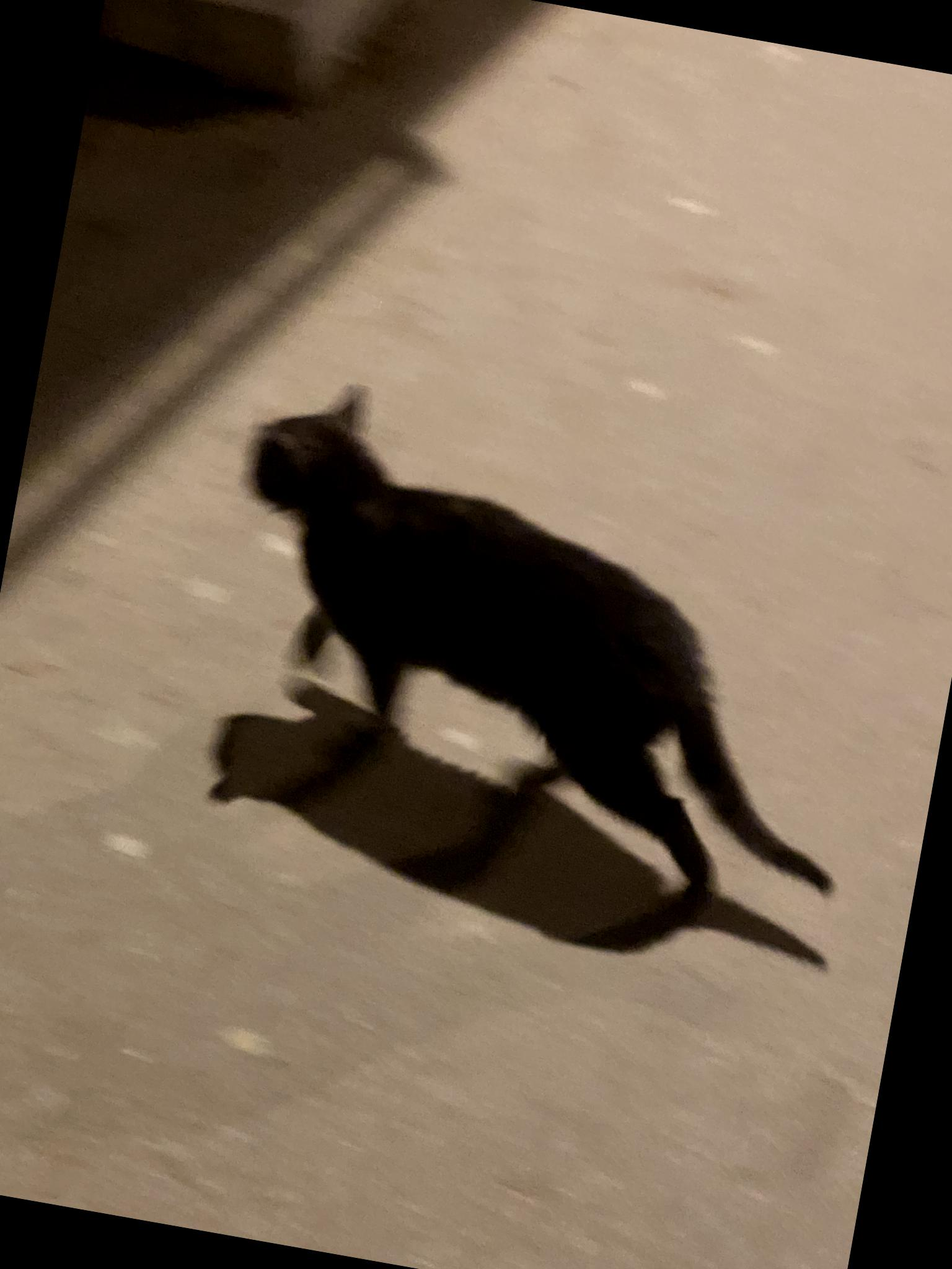macka: (180, 371, 908, 959)
